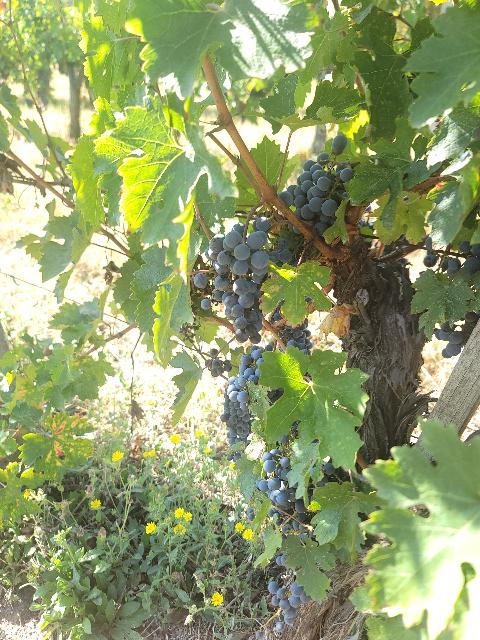grapes: (205, 222, 270, 342), (280, 135, 355, 236), (255, 449, 306, 530), (220, 374, 251, 446)
